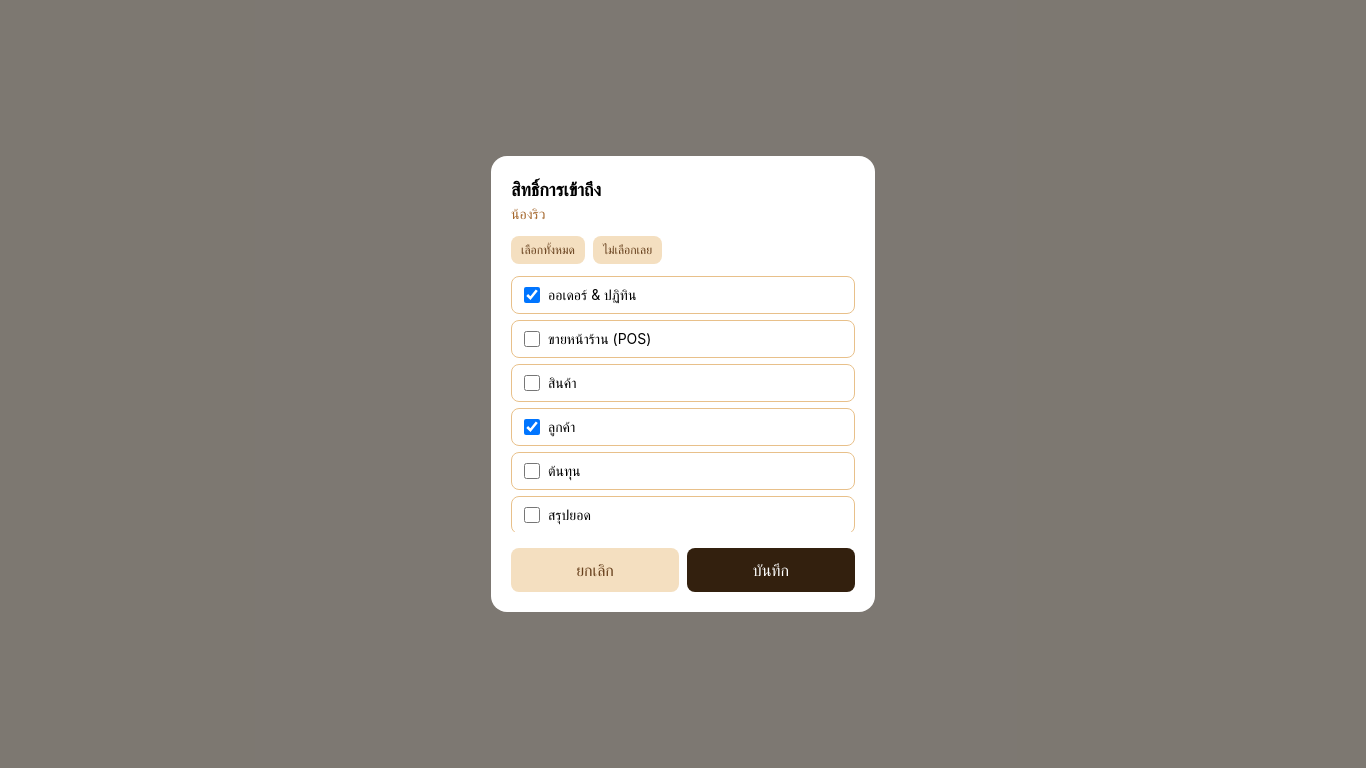
StaffPermissionsModal › กด "ไม่เลือกเลย" ปลดทุกช่อง
Click the button "ไม่เลือกเลย".
click(628, 250)  # box 593,236 -> 662,264
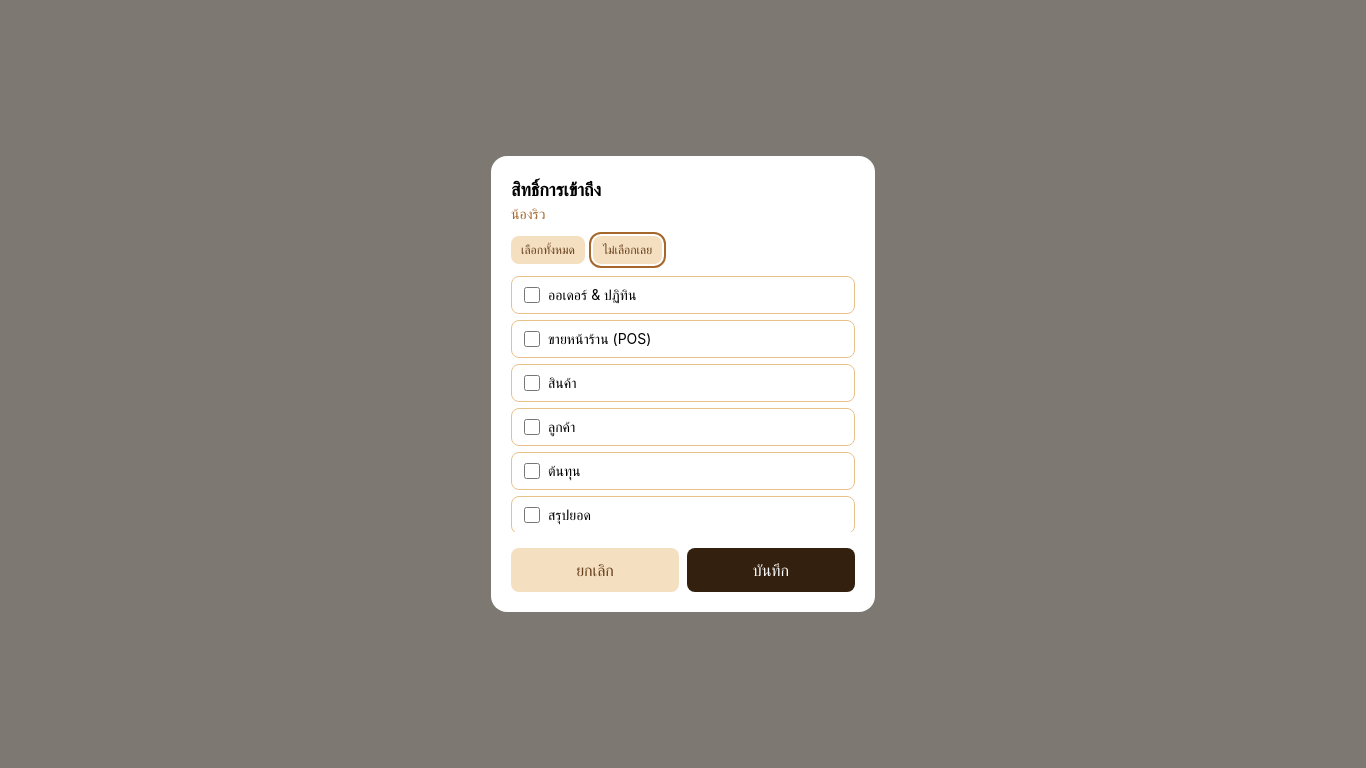
Expected: the checkbox labelled "ออเดอร์ & ปฏิทิน" is not checked, 524,287 -> 540,303
Expected: the checkbox labelled "ลูกค้า" is not checked, 524,419 -> 540,435
